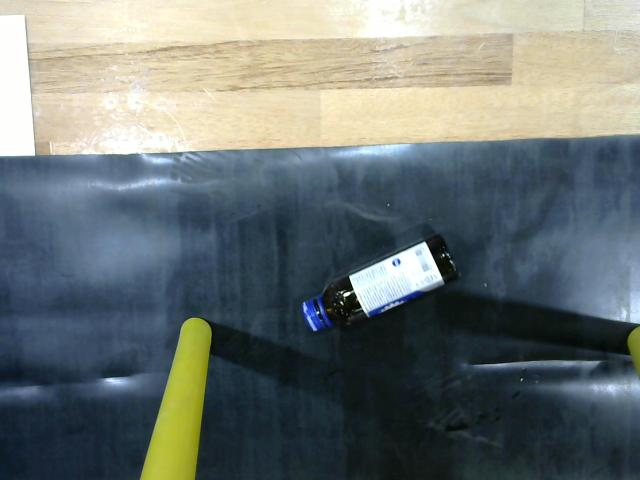glass: (298, 226, 466, 341)
